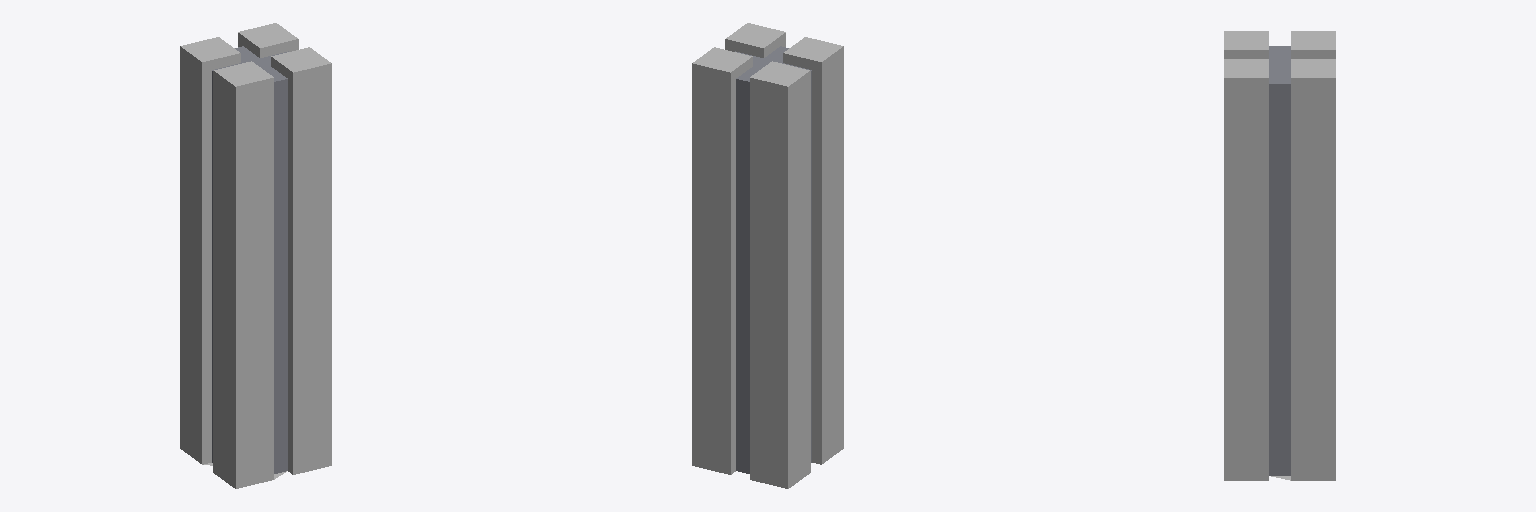
File: low_buildingE.obj
3 renders of one model, left to right at view 1: azimuth 30°, elevation 25°; view 2: azimuth 150°, elevation 25°; view 3: azimuth 270°, elevation 25°, orthographic.
Parts seen in each view (by area): view 1: low_buildingE; view 2: low_buildingE; view 3: low_buildingE.
Part boxes in pixels (left/top/right/bottom): low_buildingE: left=180, top=23, right=331, bottom=488; low_buildingE: left=692, top=23, right=843, bottom=488; low_buildingE: left=1224, top=31, right=1335, bottom=480.
Size of the model in its own units: 0.9252 by 3.7 by 0.9252.